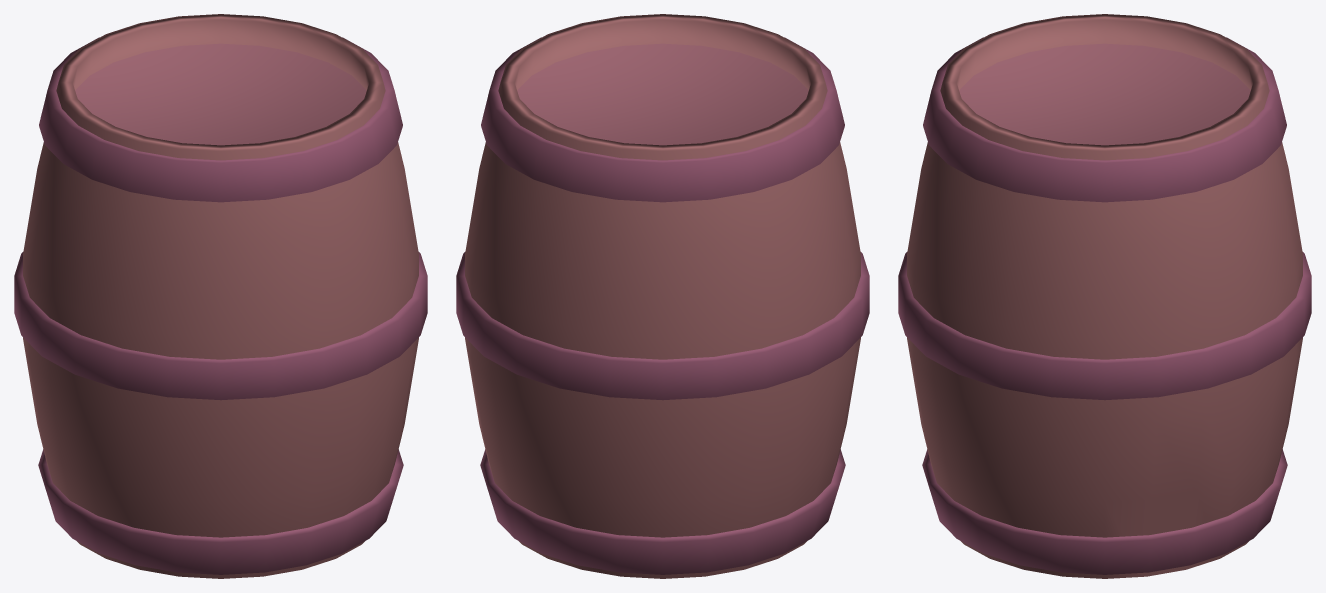
Rendered from  Barrel-2.fbx.
3 views of the same model, side by side, from view 1: azimuth 30°, elevation 25°; view 2: azimuth 150°, elevation 25°; view 3: azimuth 270°, elevation 25° (orthographic).
Parts seen in each view (by area): view 1: Barrel-2; view 2: Barrel-2; view 3: Barrel-2.
Part boxes in pixels (<box>): Barrel-2: <box>14,14,427,578</box>; Barrel-2: <box>456,14,869,578</box>; Barrel-2: <box>898,14,1311,578</box>.
Size of the model in its own units: 1.27 by 1.45 by 1.27.
